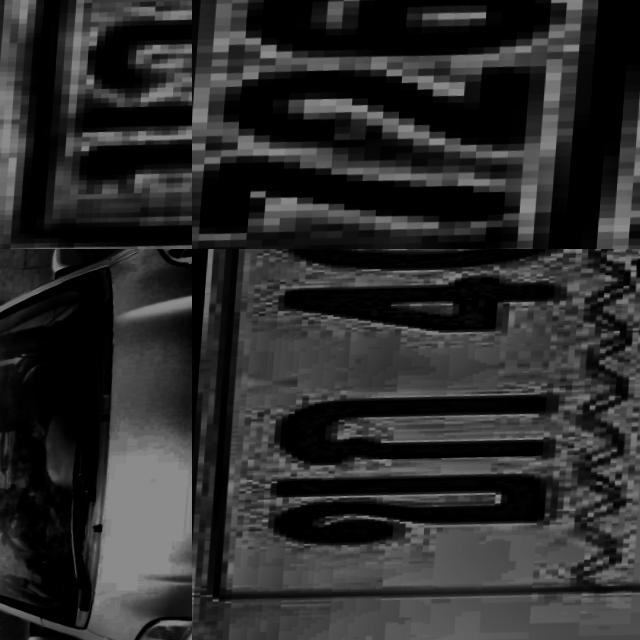license-plate: (192, 249, 640, 640), (192, 0, 640, 249), (0, 0, 192, 249)
